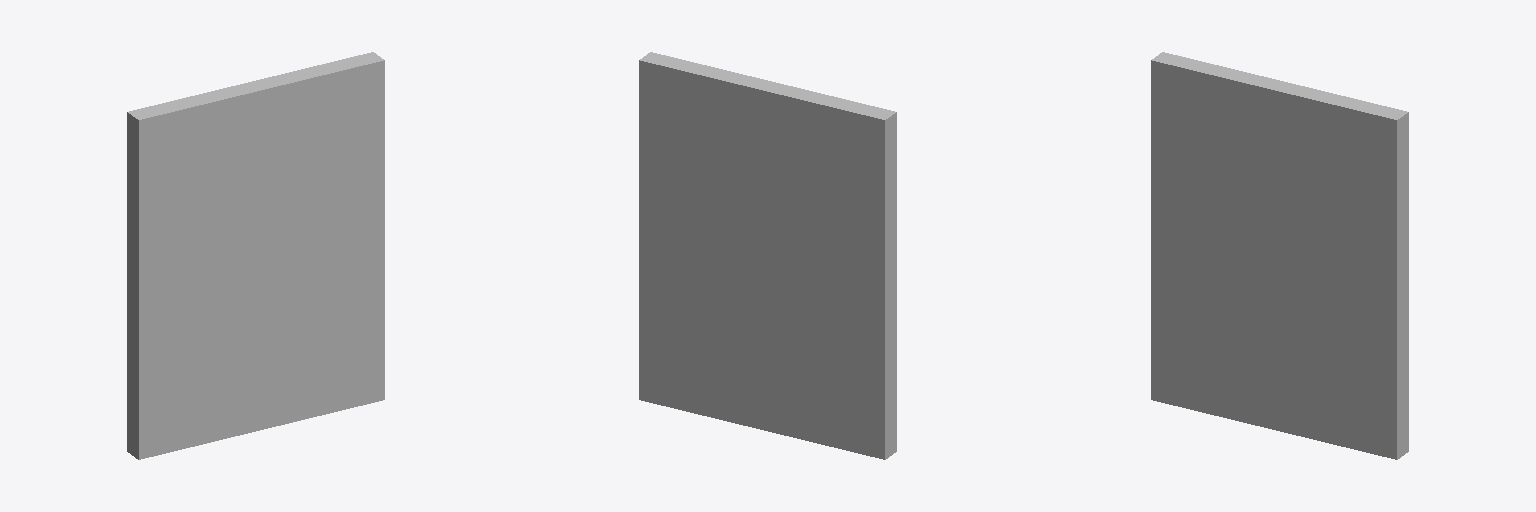
Rendered from door.obj.
3 renders of one model, left to right at view 1: azimuth 30°, elevation 25°; view 2: azimuth 150°, elevation 25°; view 3: azimuth 330°, elevation 25°, orthographic.
Parts seen in each view (by area): view 1: pCube5; view 2: pCube5; view 3: pCube5.
Part boxes in pixels (left/top/right/bottom): pCube5: left=127, top=52, right=384, bottom=459; pCube5: left=639, top=52, right=896, bottom=459; pCube5: left=1151, top=52, right=1408, bottom=459.
Size of the model in its own units: 2.66 by 3.51 by 0.2151.